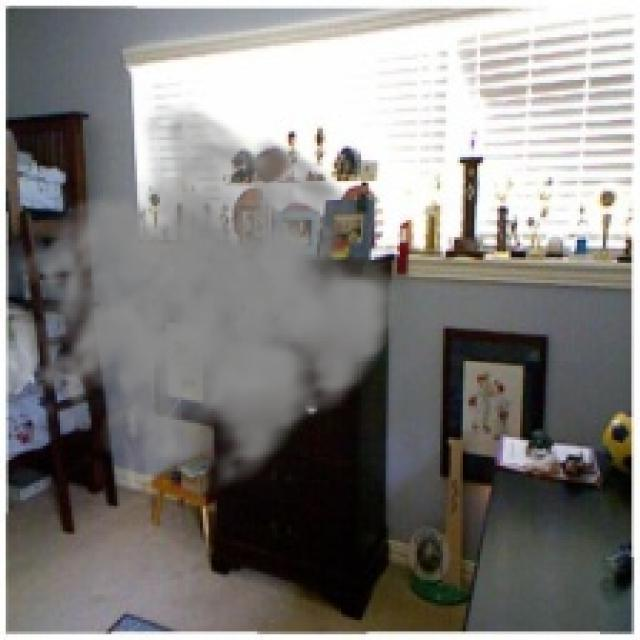Smoke: (14, 100, 406, 503)
